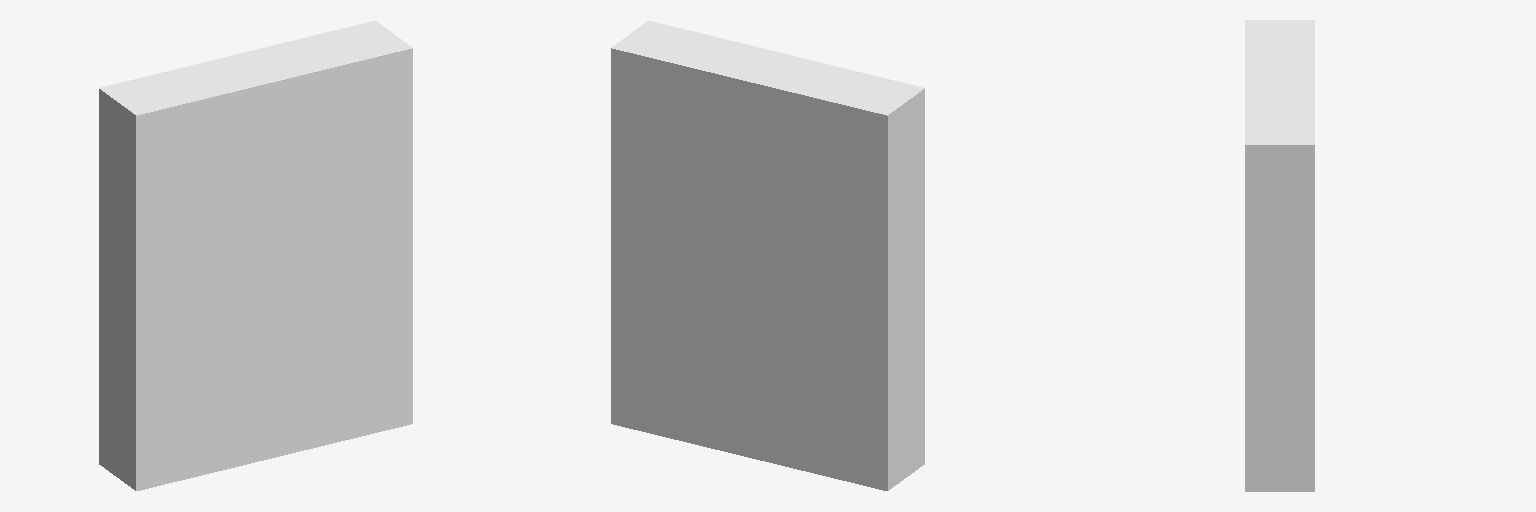
The robot description file, URDF, robot "textbookURDF":
<?xml version="1.0" encoding="utf-8"?>
<!-- This URDF was automatically created by SolidWorks to URDF Exporter! Originally created by [author] ([email redacted]) 
     Commit Version: 1.6.0-4-g7f85cfe  Build Version: 1.6.7995.38578
     For more information, please see http://wiki.ros.org/sw_urdf_exporter -->
<robot
  name="textbookURDF">
  <link
    name="base_link">
    <inertial>
      <origin
        xyz="-5.43592581294849E-18 -0.0255 -2.66085704347481E-17"
        rpy="0 0 0" />
      <mass
        value="0.49348564366752" />
      <inertia
        ixx="0.0033310692185594"
        ixy="1.51008190778081E-35"
        ixz="2.58141256783605E-19"
        iyy="0.00514277838787378"
        iyz="-1.03177498274974E-19"
        izz="0.00202563519584425" />
    </inertial>
    <visual>
      <origin
        xyz="0 0 0"
        rpy="0 0 0" />
      <geometry>
        <mesh
          filename="package://textbookURDF/meshes/base_link.STL" />
      </geometry>
      <material
        name="">
        <color
          rgba="1 1 1 1" />
      </material>
    </visual>
    <collision>
      <origin
        xyz="0 0 0"
        rpy="0 0 0" />
      <geometry>
        <mesh
          filename="package://textbookURDF/meshes/base_link.STL" />
      </geometry>
    </collision>
  </link>
</robot>

--- Render facts (derived) ---
Views: 3 orthographic renders of the robot side by side, from view 1: azimuth 30°, elevation 25°; view 2: azimuth 150°, elevation 25°; view 3: azimuth 270°, elevation 25°.
Robot: textbookURDF — 1 links, 0 joints (none); root link base_link; default pose: all joints at 0.
Links seen in each view (by area): view 1: base_link; view 2: base_link; view 3: base_link.
Link boxes in pixels (box(x1,y1,x2,y2)): base_link: box(99, 21, 412, 490); base_link: box(611, 21, 924, 490); base_link: box(1245, 20, 1314, 491).
Size in the robot's own frame: 0.216 by 0.051 by 0.28 metres.
1 mesh visuals loaded from 1 distinct referenced files (1 binary STL).